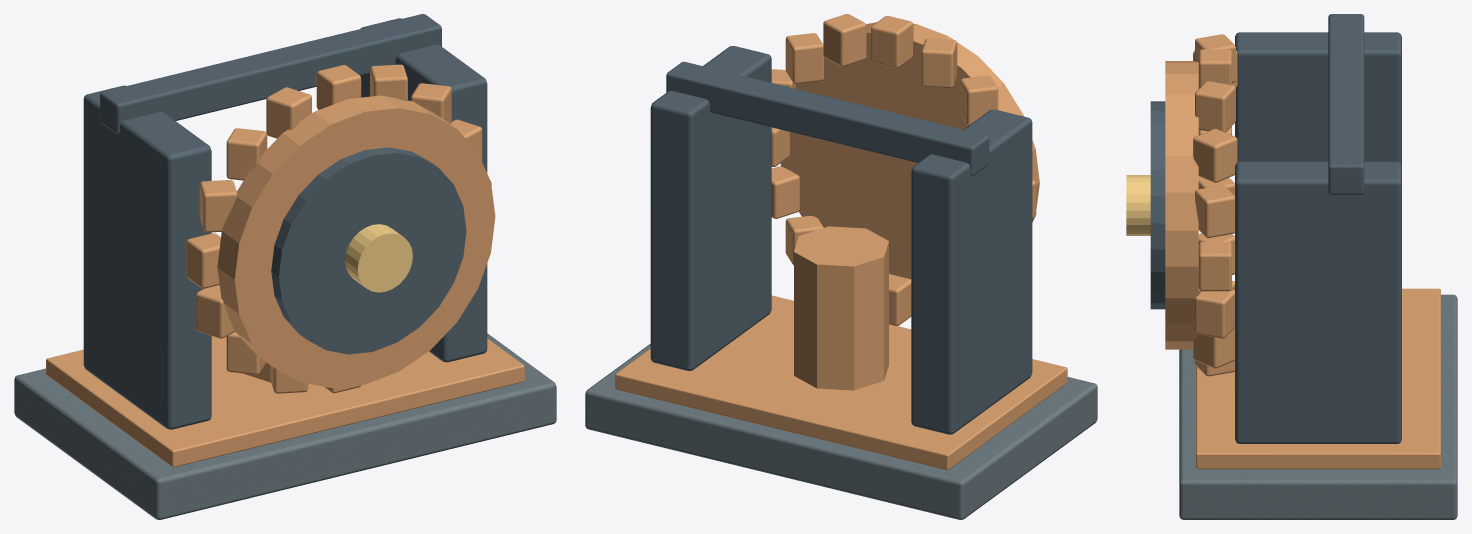
The model's file is dwarven-runeforge-dungeon-dwarven-runeforge-dungeon-ge-8bd0e3e3__28600.glb.
The picture shows the model from 3 angles, left to right: view 1: azimuth 30°, elevation 25°; view 2: azimuth 150°, elevation 25°; view 3: azimuth 270°, elevation 25°; orthographic projection. The views are drawn at different scales.
Visible parts, largest first — view 1: dwarven-runeforge-dungeon-geared-winch, gear (×13); view 2: dwarven-runeforge-dungeon-geared-winch, gear (×10); view 3: dwarven-runeforge-dungeon-geared-winch, gear (×11).
Part boxes in pixels (x1=…): dwarven-runeforge-dungeon-geared-winch: x1=14, y1=14, x2=556, y2=519; gear (×13): x1=186, y1=64, x2=495, y2=393; dwarven-runeforge-dungeon-geared-winch: x1=585, y1=46, x2=1097, y2=519; gear (×10): x1=771, y1=14, x2=1039, y2=325; dwarven-runeforge-dungeon-geared-winch: x1=1179, y1=14, x2=1457, y2=519; gear (×11): x1=1126, y1=34, x2=1237, y2=368.
Bounding box in the file's own units: 1.6 × 1.47 × 1.19.
4 materials, 1 textured.
